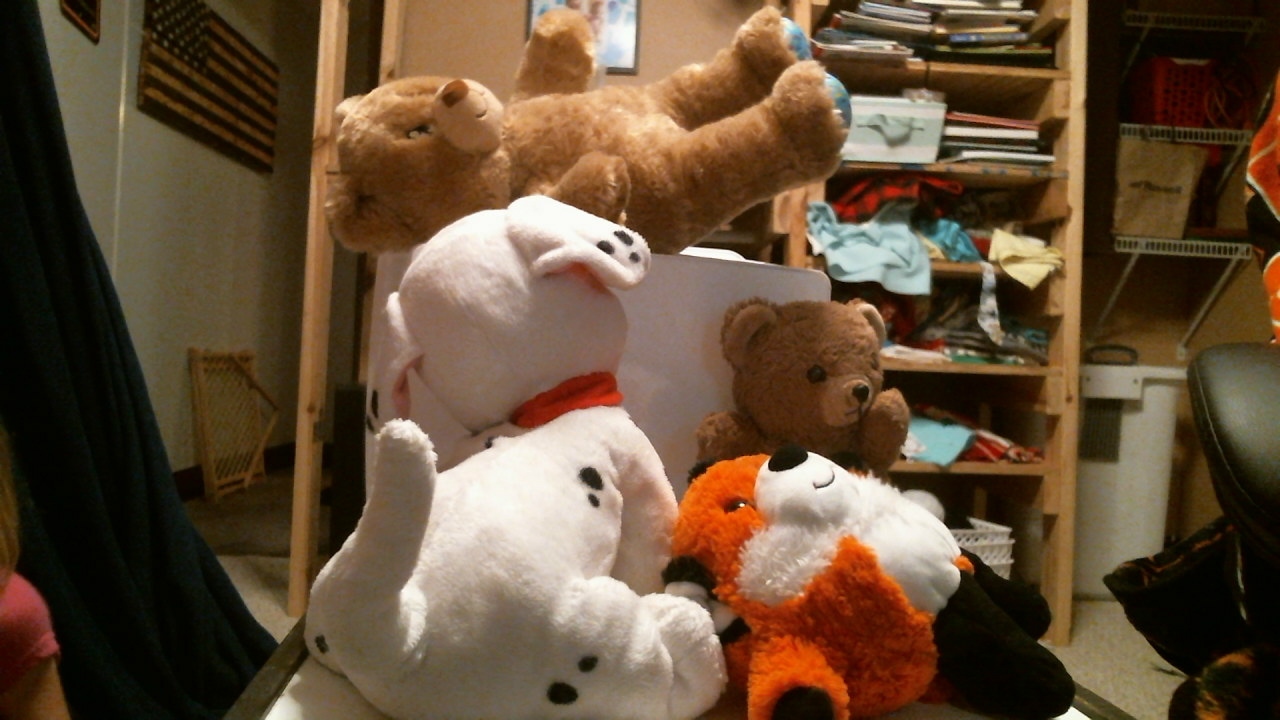Little_Mister_Bear: (809, 357, 887, 428)
